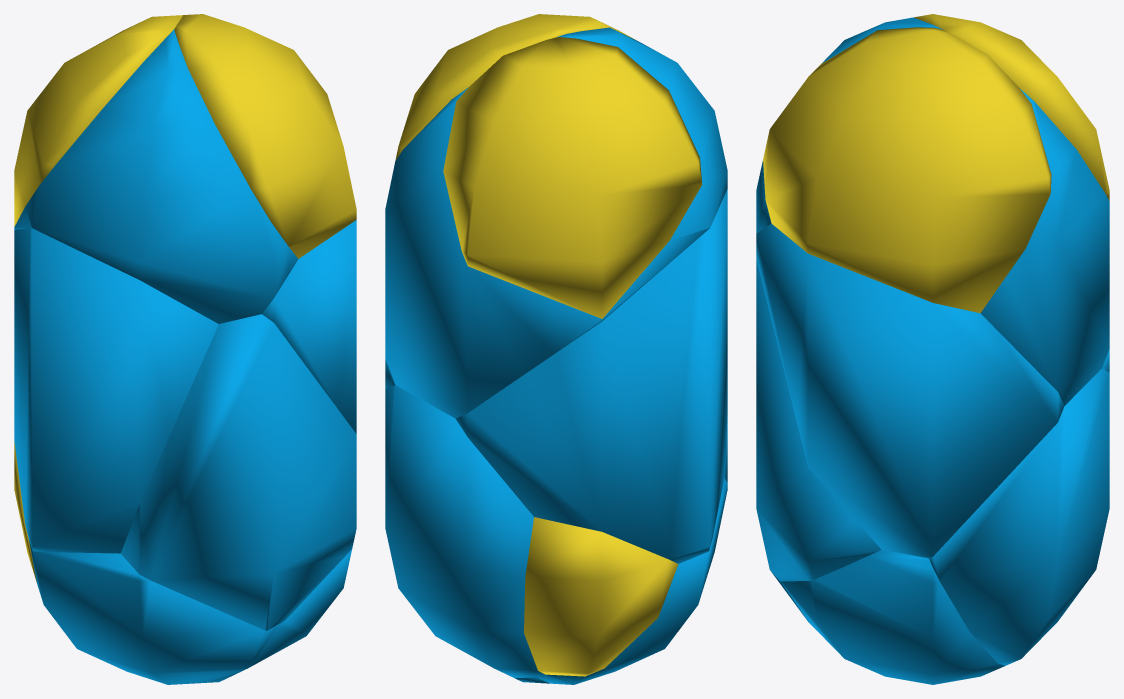
The model's file is sh_generic_b001.fbx.
3 views of the same model, side by side, from view 1: azimuth 30°, elevation 25°; view 2: azimuth 150°, elevation 25°; view 3: azimuth 270°, elevation 25° (orthographic).
Parts seen in each view (by area): view 1: Sphere.006, Sphere.007, Sphere.004, Sphere.003, Sphere.002, Sphere.009, Sphere, Sphere.005, Sphere.001; view 2: Sphere.007, Sphere, Sphere.004, Sphere.008, Sphere.001, Sphere.003, Sphere.002; view 3: Sphere.003, Sphere.009, Sphere.008, Sphere.004, Sphere.005, Sphere.006, Sphere.
Boxes of the visible parts, left/top/right/bottom form: Sphere.006: left=120, top=314, right=356, bottom=630; Sphere.007: left=14, top=228, right=218, bottom=553; Sphere.004: left=14, top=29, right=298, bottom=323; Sphere.003: left=174, top=14, right=356, bottom=258; Sphere.002: left=29, top=540, right=277, bottom=684; Sphere.009: left=262, top=220, right=356, bottom=433; Sphere: left=14, top=15, right=183, bottom=226; Sphere.005: left=208, top=549, right=351, bottom=682; Sphere.001: left=14, top=442, right=36, bottom=582; Sphere.007: left=456, top=189, right=727, bottom=563; Sphere: left=443, top=37, right=702, bottom=318; Sphere.004: left=385, top=27, right=727, bottom=418; Sphere.008: left=385, top=385, right=544, bottom=678; Sphere.001: left=524, top=517, right=678, bottom=676; Sphere.003: left=395, top=14, right=638, bottom=160; Sphere.002: left=537, top=478, right=727, bottom=684; Sphere.003: left=763, top=27, right=1051, bottom=313; Sphere.009: left=756, top=223, right=1064, bottom=558; Sphere.008: left=929, top=368, right=1109, bottom=665; Sphere.004: left=756, top=17, right=1109, bottom=405; Sphere.005: left=780, top=550, right=1005, bottom=684; Sphere.006: left=756, top=259, right=881, bottom=581; Sphere: left=913, top=14, right=1109, bottom=200.
Bounding box in the file's own units: 8.04 × 16.02 × 8.04.
